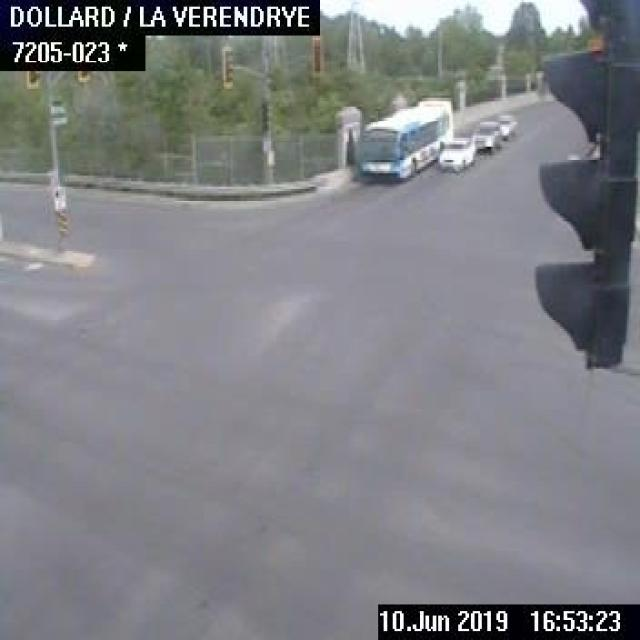bus: (356, 96, 451, 180)
vehicle: (438, 134, 473, 172), (472, 117, 499, 156), (491, 113, 516, 139)
